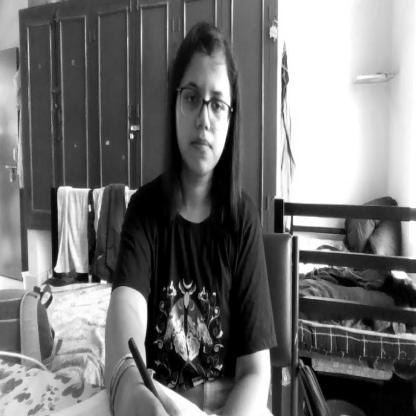Normal: (172, 28, 236, 184)
